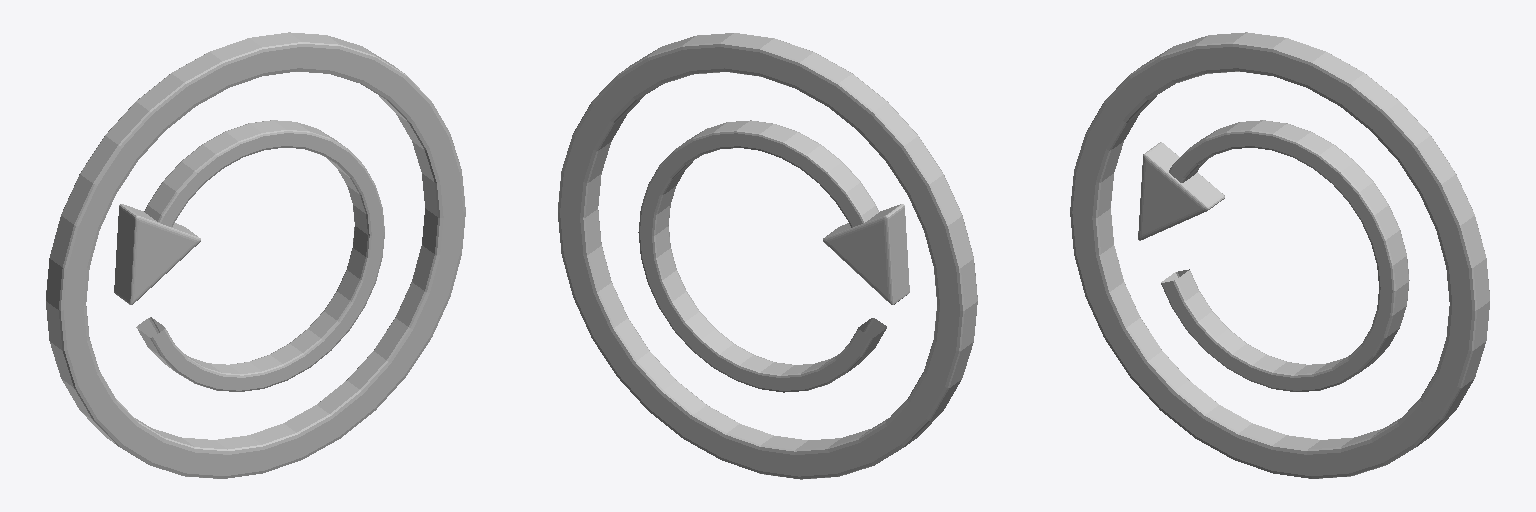
The model's file is ResetButton.obj.
3 views of the same model, side by side, from view 1: azimuth 30°, elevation 25°; view 2: azimuth 150°, elevation 25°; view 3: azimuth 330°, elevation 25° (orthographic).
Visible parts, largest first — view 1: Circle, Circle.001, Cube_Cube.001; view 2: Circle, Circle.001, Cube_Cube.001; view 3: Circle, Circle.001, Cube_Cube.001.
Boxes of the visible parts, x1,y1,x2,y2 form: Circle: [46, 32, 465, 478]; Circle.001: [136, 120, 384, 391]; Cube_Cube.001: [114, 204, 200, 304]; Circle: [558, 33, 977, 479]; Circle.001: [638, 120, 886, 392]; Cube_Cube.001: [823, 204, 909, 304]; Circle: [1070, 32, 1489, 478]; Circle.001: [1161, 120, 1409, 391]; Cube_Cube.001: [1138, 142, 1224, 240].
Size of the model in its own units: 1.04 by 1.04 by 0.08.